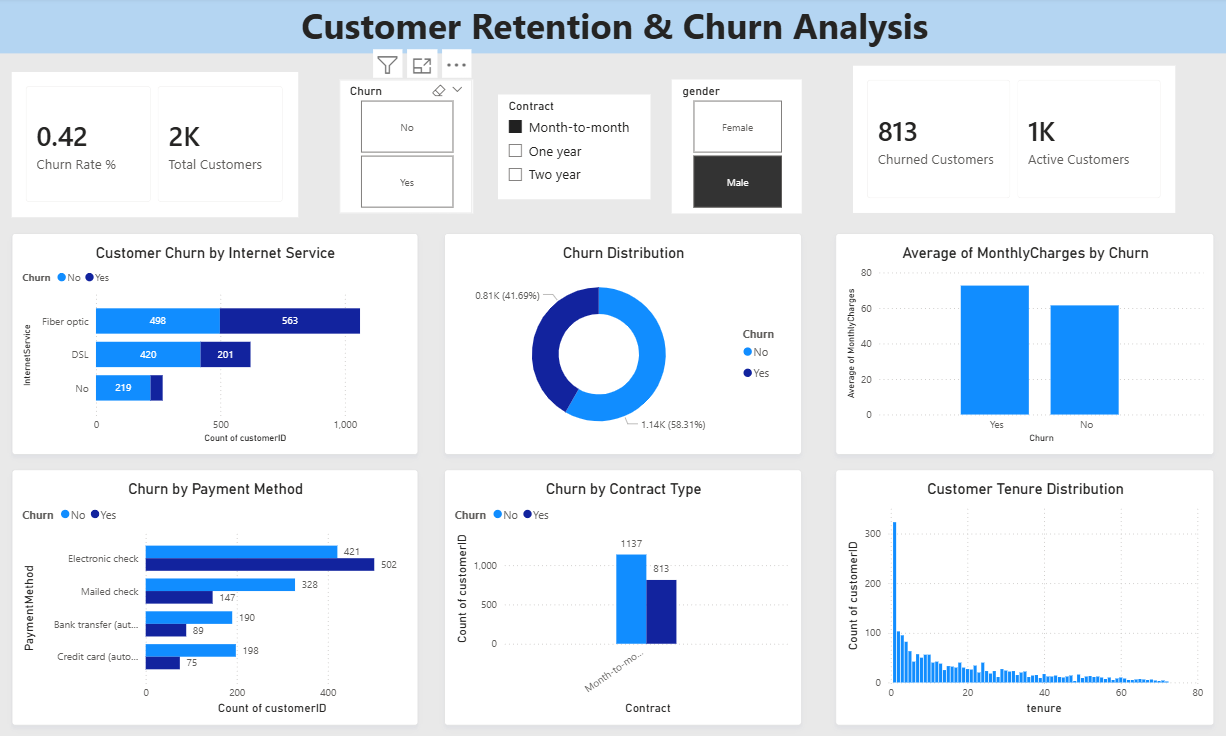

Layout of this report page (visuals, bound fields, positions):
{"tool":"powerbi","page":{"name":"Page 1","canvas":[1500,900],"ordinal":0},"visuals":[{"type":"cardVisual","fields":{"Data":["WA_Fn-UseC_-Telco-Customer-Churn.Churned Customers","WA_Fn-UseC_-Telco-Customer-Churn.Active Customers"]},"box":[1037.5,82.9,389.1,177.9],"z":0},{"type":"textbox","box":[0,0,1500.5,67.9],"z":1000},{"type":"slicer","fields":{"Values":["WA_Fn-UseC_-Telco-Customer-Churn.Churn"]},"box":[417.7,99.5,161.4,161.4],"z":2000},{"type":"donutChart","title":"Churn Distribution","fields":{"Y":["Count(WA_Fn-UseC_-Telco-Customer-Churn.customerID)"],"Category":["WA_Fn-UseC_-Telco-Customer-Churn.Churn"]},"box":[544.4,285,431.3,266.9],"z":3000},{"type":"clusteredColumnChart","title":"Churn by Contract Type","fields":{"Category":["WA_Fn-UseC_-Telco-Customer-Churn.Contract"],"Y":["Count(WA_Fn-UseC_-Telco-Customer-Churn.customerID)"],"Series":["WA_Fn-UseC_-Telco-Customer-Churn.Churn"]},"box":[544.4,570,431.3,309.2],"z":4000},{"type":"barChart","title":"Customer Churn by Internet Service","fields":{"Y":["CountNonNull(WA_Fn-UseC_-Telco-Customer-Churn.customerID)"],"Series":["WA_Fn-UseC_-Telco-Customer-Churn.Churn"],"Category":["WA_Fn-UseC_-Telco-Customer-Churn.InternetService"]},"box":[22.6,285,490.1,266.9],"z":5000},{"type":"clusteredBarChart","title":"Churn by Payment Method","fields":{"Category":["WA_Fn-UseC_-Telco-Customer-Churn.PaymentMethod"],"Series":["WA_Fn-UseC_-Telco-Customer-Churn.Churn"],"Y":["CountNonNull(WA_Fn-UseC_-Telco-Customer-Churn.customerID)"]},"box":[22.6,570,490.1,309.2],"z":6000},{"type":"columnChart","title":"Customer Tenure Distribution","fields":{"Category":["WA_Fn-UseC_-Telco-Customer-Churn.tenure"],"Y":["CountNonNull(WA_Fn-UseC_-Telco-Customer-Churn.customerID)"]},"box":[1016.4,570,456.9,309.2],"z":7000},{"type":"clusteredColumnChart","fields":{"Y":["Avg(WA_Fn-UseC_-Telco-Customer-Churn.MonthlyCharges)"],"Category":["WA_Fn-UseC_-Telco-Customer-Churn.Churn"]},"box":[1016.4,285,456.9,266.9],"z":7001},{"type":"slicer","fields":{"Values":["WA_Fn-UseC_-Telco-Customer-Churn.Contract"]},"box":[609.3,117.6,184,126.7],"z":7002},{"type":"slicer","fields":{"Values":["WA_Fn-UseC_-Telco-Customer-Churn.gender"]},"box":[818.9,96.5,156.8,161.4],"z":7003},{"type":"cardVisual","fields":{"Data":["WA_Fn-UseC_-Telco-Customer-Churn.Churn Rate","WA_Fn-UseC_-Telco-Customer-Churn.Total Customers"]},"box":[22.6,90.5,345.3,174.9],"z":7005}]}

Visuals, with their boxes in screenshot pixels (x1, y1, x2, y2), scaled from the page's 1500x900 canvas onto the 1226x736 screenshot:
cardVisual - WA_Fn-UseC_-Telco-Customer-Churn.Churned Customers x WA_Fn-UseC_-Telco-Customer-Churn.Active Customers: pyautogui.locateOnScreen(848, 68, 1166, 213)
textbox: pyautogui.locateOnScreen(0, 0, 1225, 56)
slicer - WA_Fn-UseC_-Telco-Customer-Churn.Churn: pyautogui.locateOnScreen(341, 81, 473, 213)
"Churn Distribution" donutChart: pyautogui.locateOnScreen(445, 233, 797, 451)
"Churn by Contract Type" clusteredColumnChart: pyautogui.locateOnScreen(445, 466, 797, 719)
"Customer Churn by Internet Service" barChart: pyautogui.locateOnScreen(18, 233, 419, 451)
"Churn by Payment Method" clusteredBarChart: pyautogui.locateOnScreen(18, 466, 419, 719)
"Customer Tenure Distribution" columnChart: pyautogui.locateOnScreen(831, 466, 1204, 719)
clusteredColumnChart - Avg(WA_Fn-UseC_-Telco-Customer-Churn.MonthlyCharges) x WA_Fn-UseC_-Telco-Customer-Churn.Churn: pyautogui.locateOnScreen(831, 233, 1204, 451)
slicer - WA_Fn-UseC_-Telco-Customer-Churn.Contract: pyautogui.locateOnScreen(498, 96, 648, 200)
slicer - WA_Fn-UseC_-Telco-Customer-Churn.gender: pyautogui.locateOnScreen(669, 79, 797, 211)
cardVisual - WA_Fn-UseC_-Telco-Customer-Churn.Churn Rate x WA_Fn-UseC_-Telco-Customer-Churn.Total Customers: pyautogui.locateOnScreen(18, 74, 301, 217)
